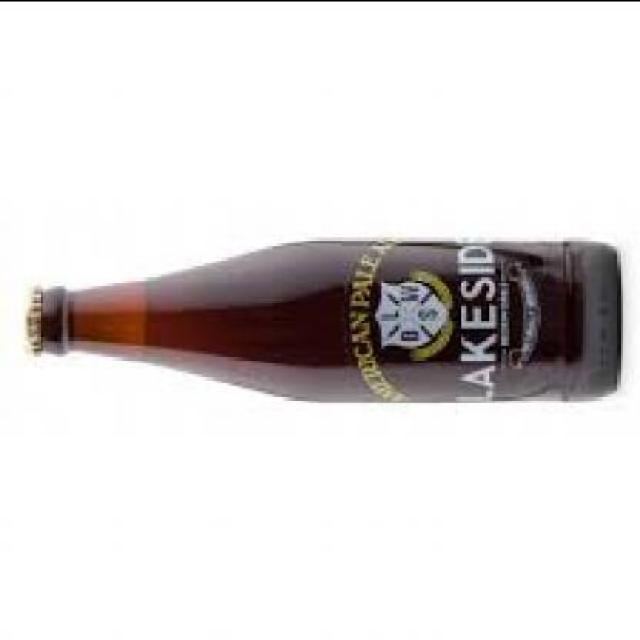GLASS: (39, 239, 618, 404)
METAL: (22, 291, 35, 355)
